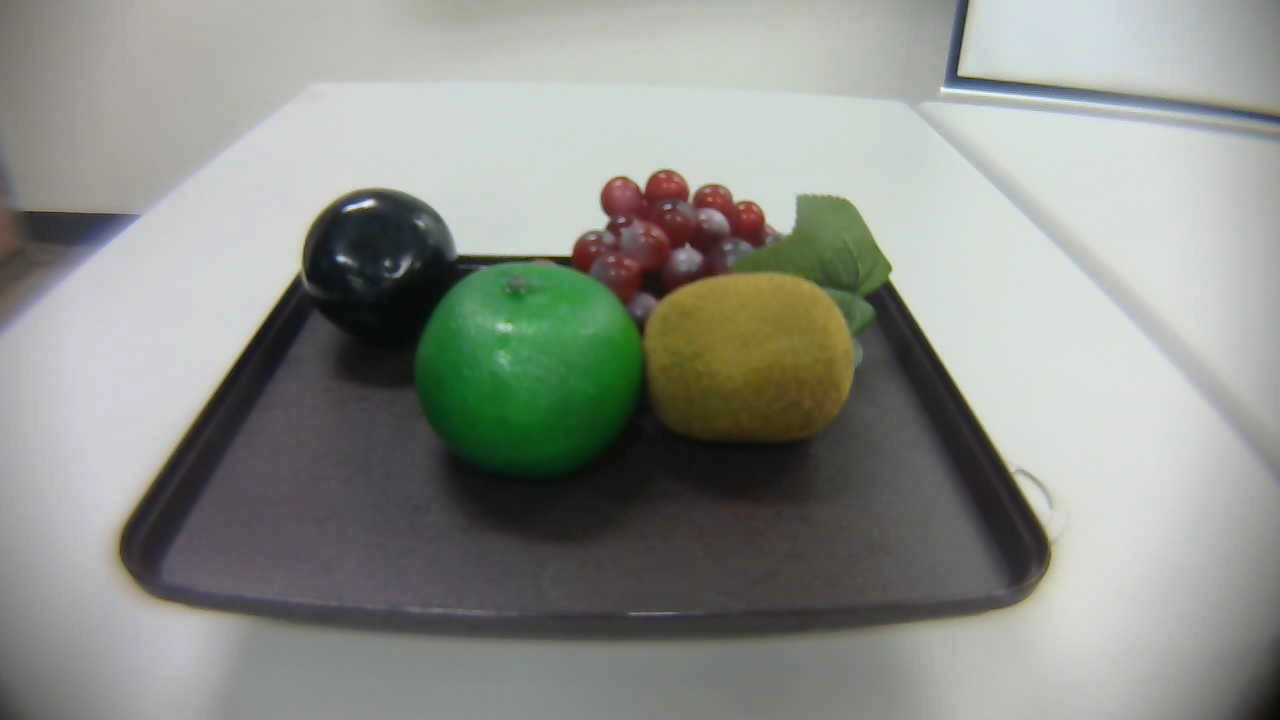grape: (558, 161, 903, 359)
green orange: (408, 259, 648, 488)
kiwi fruit: (635, 269, 862, 449)
mangosteen: (291, 186, 463, 335)
